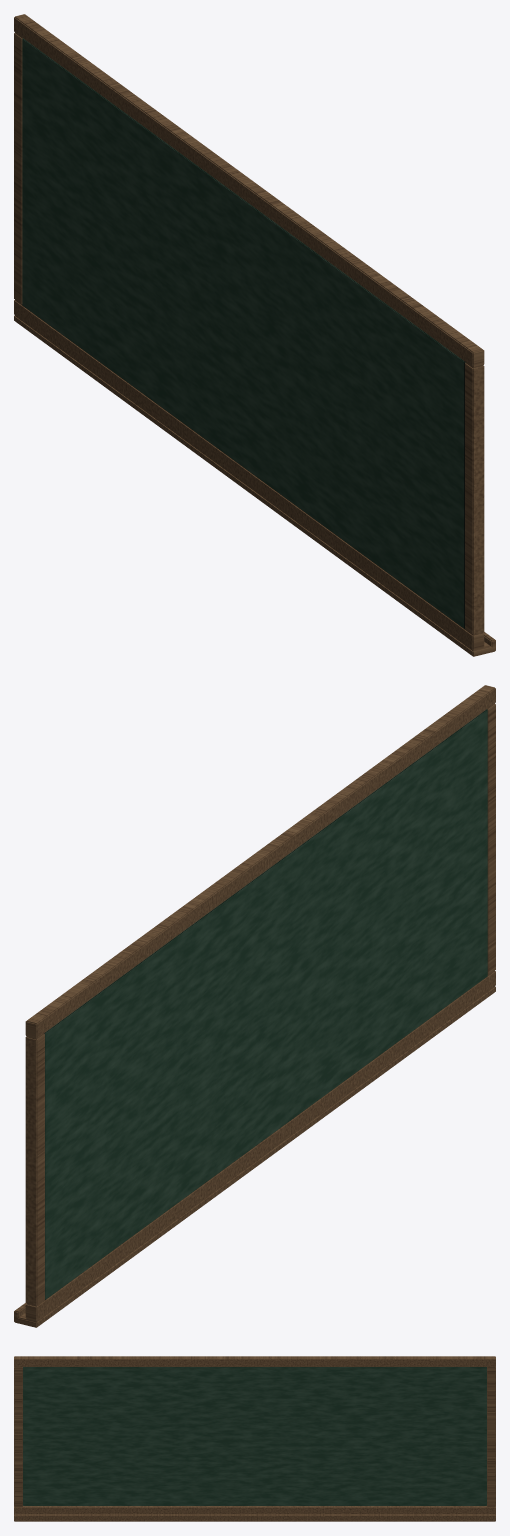
Rendered from green_board.glb.
3 renders of one model, top to bottom at view 1: azimuth 30°, elevation 25°; view 2: azimuth 150°, elevation 25°; view 3: azimuth 270°, elevation 25°, orthographic. The views are drawn at different scales.
Visible parts, largest first — view 1: Green Board; view 2: Green Board; view 3: Green Board.
Boxes of the visible parts, box(x1,y1,x2,y2) form: Green Board: box(14, 14, 495, 656); Green Board: box(14, 685, 495, 1327); Green Board: box(14, 1356, 495, 1521).
Bounding box in the file's own units: 0.055 × 0.684 × 1.87.
Materials: 1 (1 with a texture image).
